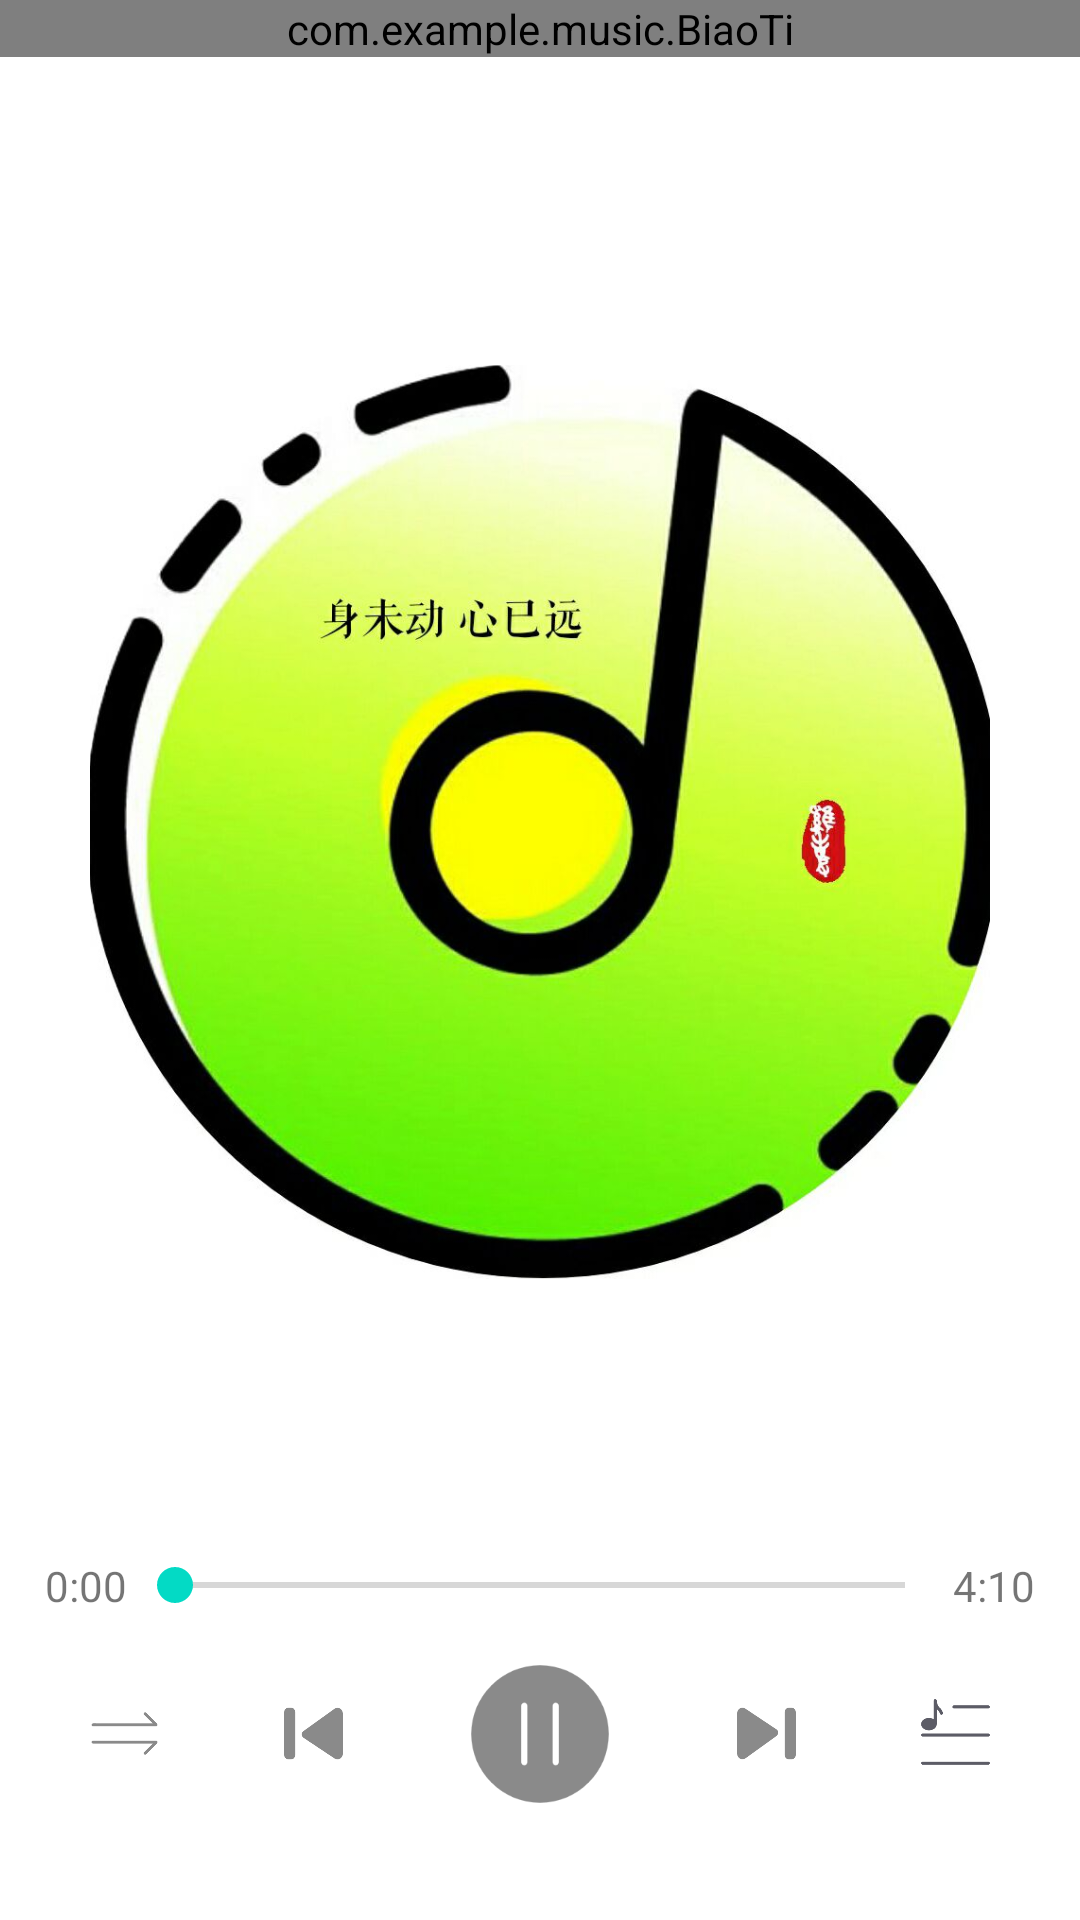

Point at icon controls on the screen. Image size 1080×1920, points as (x,y).
last: (313,1733)
listmusic: (955,1732)
next: (766,1733)
pausecircle: (540,1734)
shunx: (124,1733)
